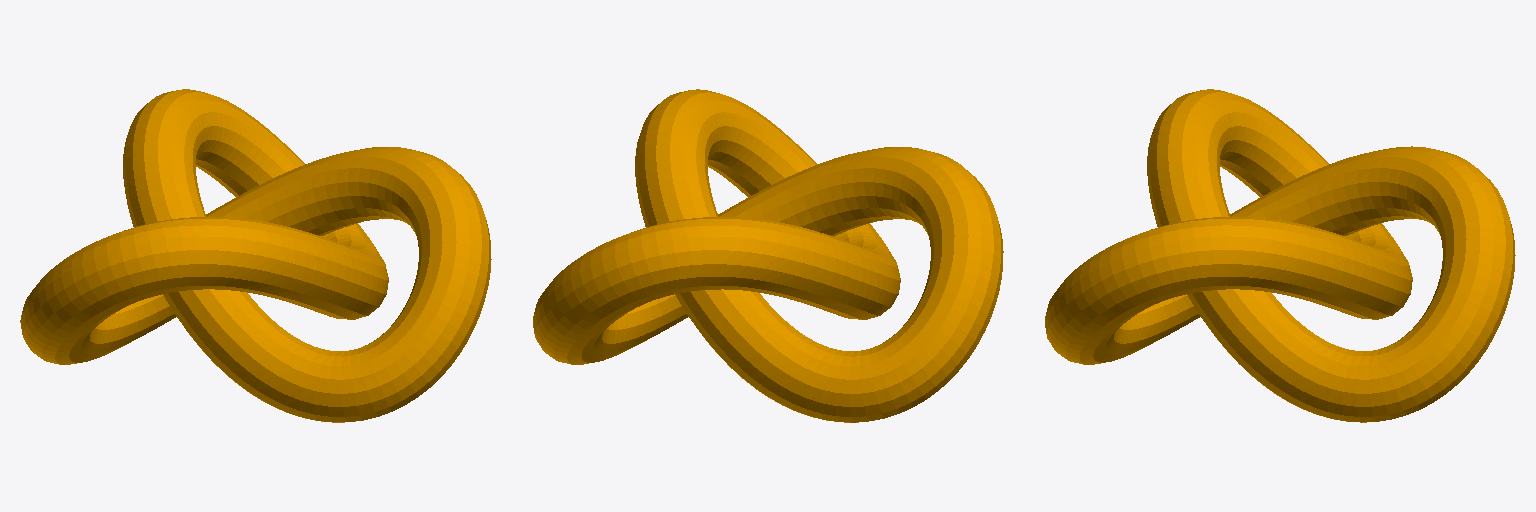
URDF robot description (torus_knot):

<robot name="torus_knot">
    <link name="base">
        <inertial>
            <origin xyz="0.0 -0.0 0.0" />
            <mass value="0.2724" />
            <inertia ixx="0.0429" ixy="0.0" 
                     ixz="-0.0" iyy="0.0429" 
                     iyz="0.0" izz="0.0699" />
        </inertial>
        <visual>
            <origin xyz="0 0 0" />
            <geometry>
                <mesh filename="visual_geometry.obj" />
            </geometry>
        </visual>
        <collision>
            <origin xyz="0 0 0" />
            <geometry>
                <mesh filename="collision_geometry.obj" />
            </geometry>
        </collision>
    </link>
</robot>

--- Render facts (derived) ---
3 views of the same robot in one strip: view 1: azimuth 30°, elevation 25°; view 2: azimuth 150°, elevation 25°; view 3: azimuth 270°, elevation 25° (orthographic).
Model torus_knot with 1 links and 0 joints (none), rooted at base, posed all joints at 0.
Links seen in each view (by area): view 1: base; view 2: base; view 3: base.
Link boxes in pixels (bbox=[...]): base: bbox=[20, 89, 491, 422]; base: bbox=[533, 89, 1003, 422]; base: bbox=[1045, 89, 1515, 422].
Size in the robot's own frame: 1.4 by 1.5 by 0.6913 metres.
1 mesh visuals loaded from 1 distinct referenced files (1 OBJ).